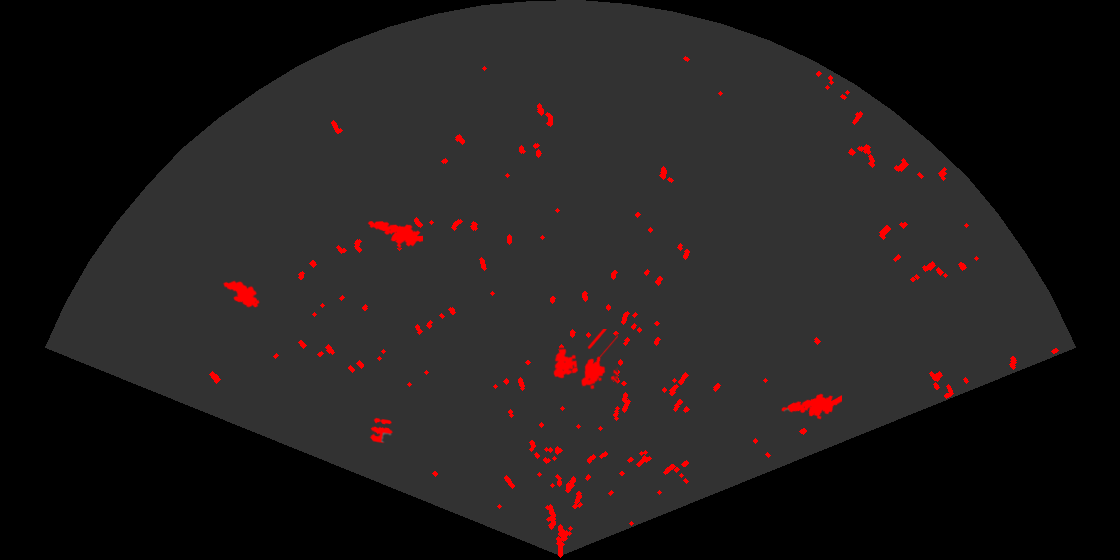AUV: (221, 279, 261, 309)
ball: (368, 416, 395, 445)
cage: (552, 329, 618, 391)
frogman: (780, 392, 842, 421), (367, 219, 423, 250)
